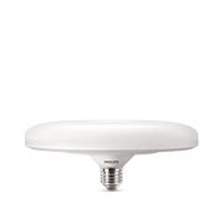light_bulb: (18, 110, 202, 191)
